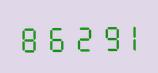eight: (18, 21, 41, 53)
nine: (90, 19, 113, 52)
one: (114, 19, 137, 51)
six: (42, 20, 65, 53)
two: (66, 20, 89, 52)
